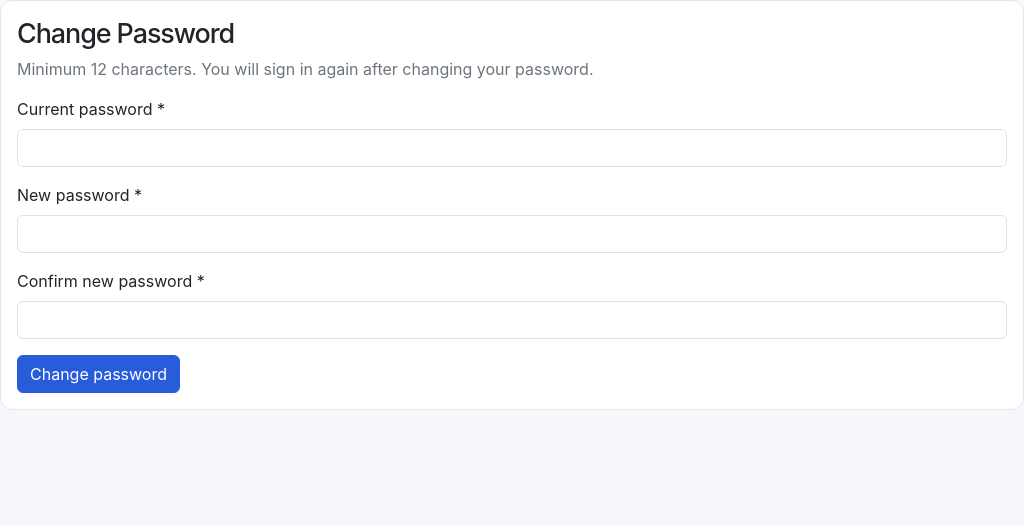
Test case: rejects reusing the current password
Type "old-safe-passphrase" into the password field labelled "Current password *" at [512, 148], box 17,129 -> 1007,167
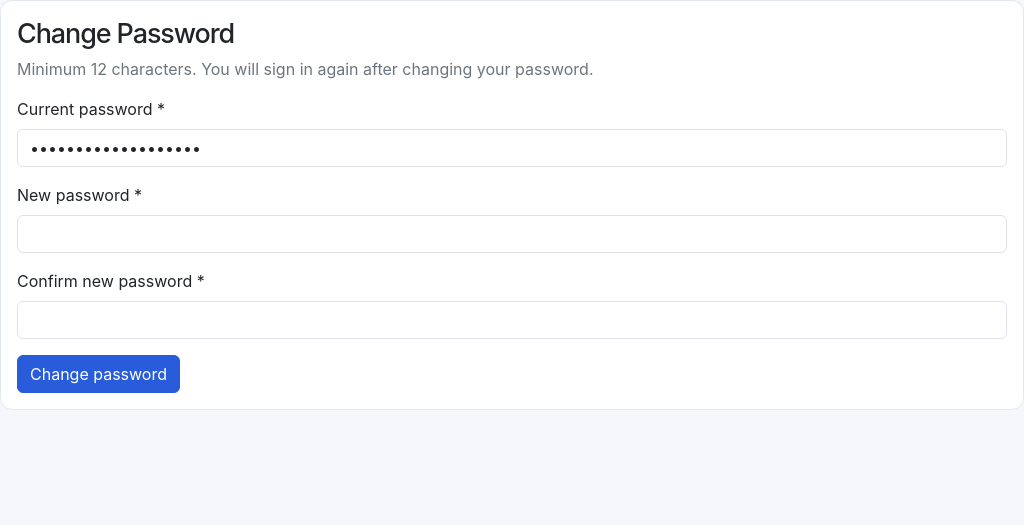
Type "old-safe-passphrase" into the password field labelled "New password *" at [512, 234], box 17,215 -> 1007,253
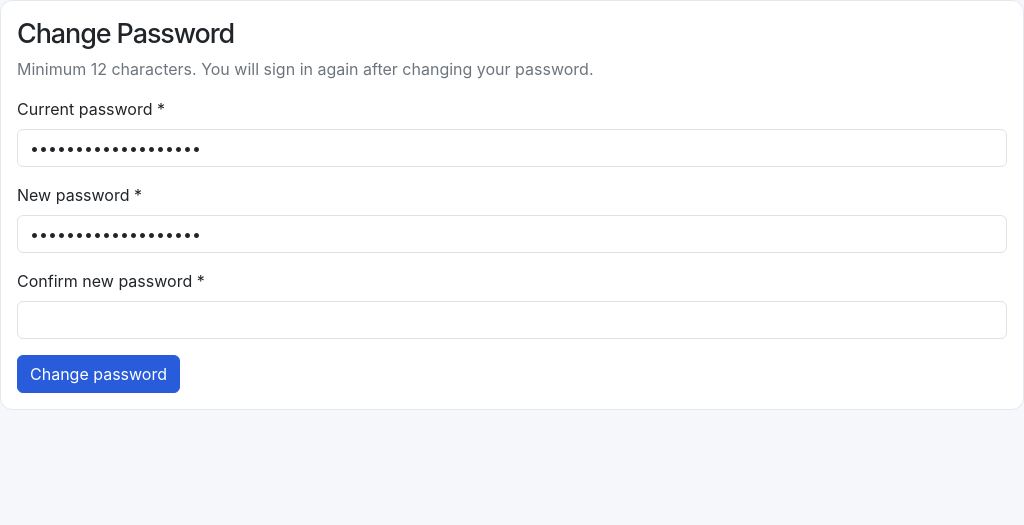
Type "old-safe-passphrase" into the password field labelled "Confirm new password *" at [512, 320], box 17,301 -> 1007,339
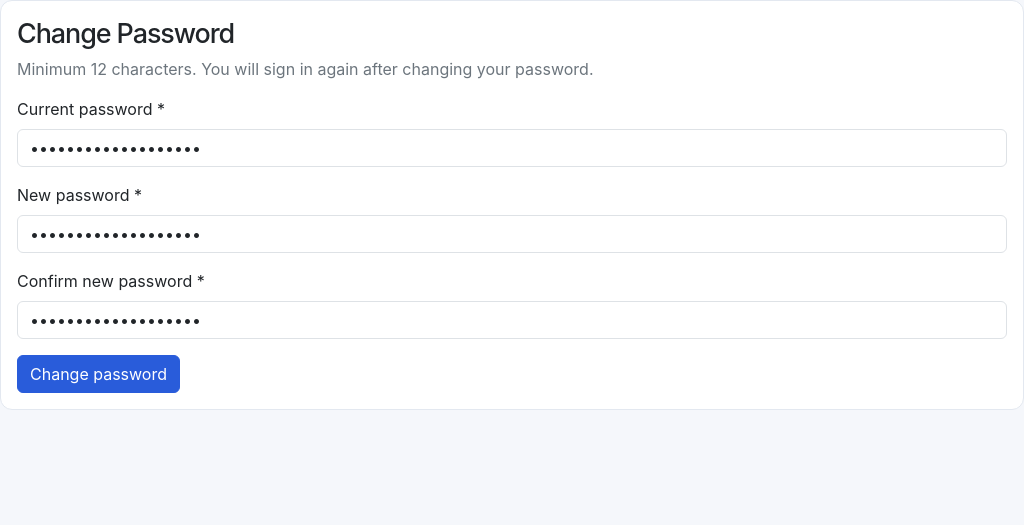
Click the button "Change password" at [98, 374], box 17,355 -> 180,393
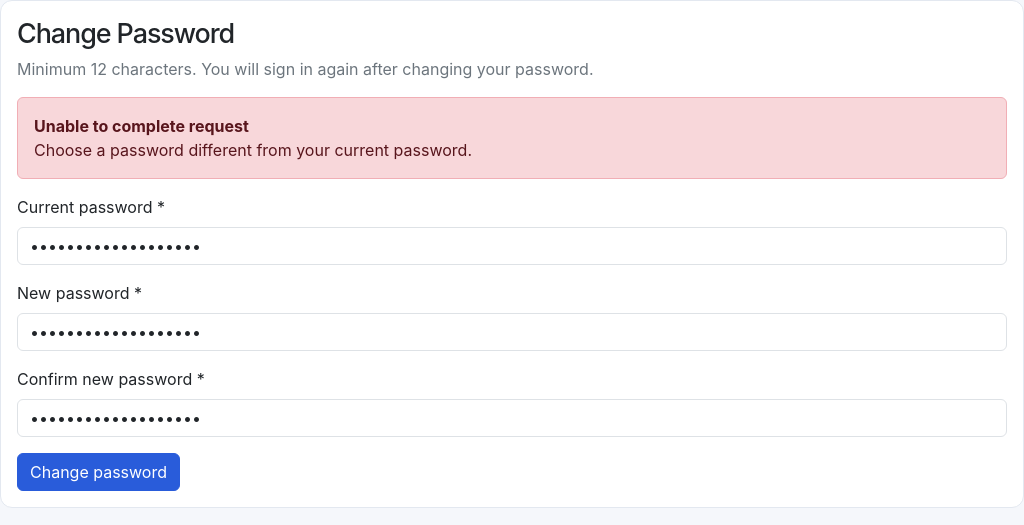
Now the text "Choose a password different from your current password." is shown, box 34,140 -> 472,160
